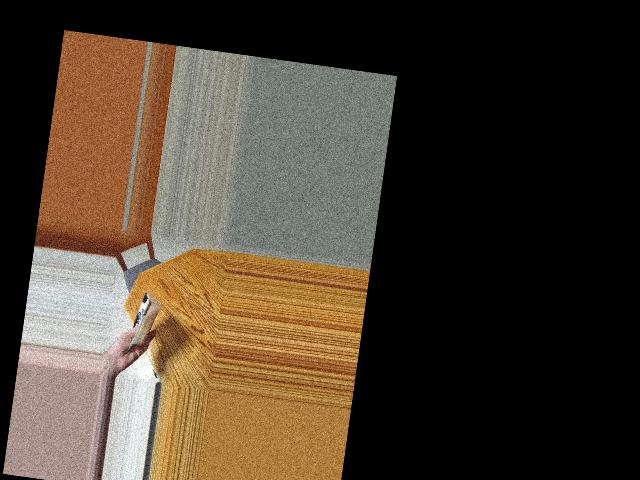cheese: (117, 292, 168, 348)
